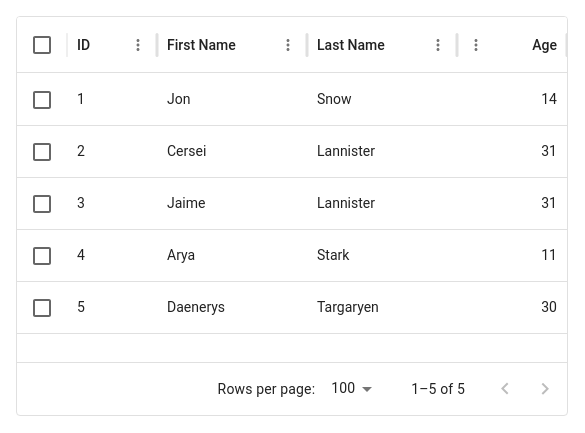
Test: DataTable component › shows correct selection count when multiple rows are selected
checkbox[1] - первая строка, checkbox[2] - вторая строка
Click the checkbox named "Select row" at (42, 100), box [30,88,54,112]
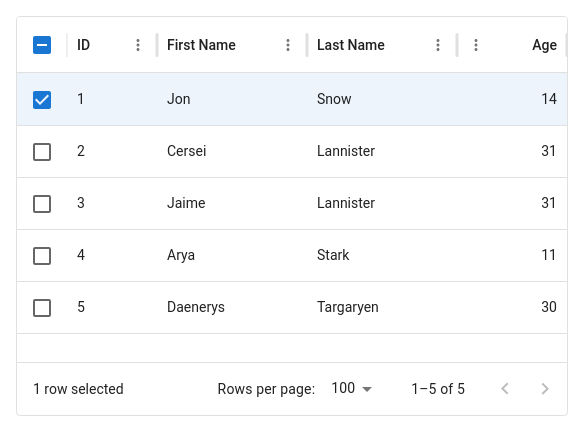
Click the checkbox named "Select row" at (42, 152), box [30,140,54,164]
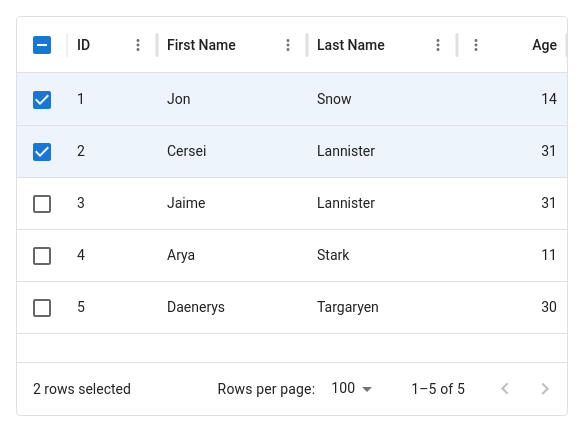
Expected: the text "2 rows selected" is shown, [33,379,131,399]
